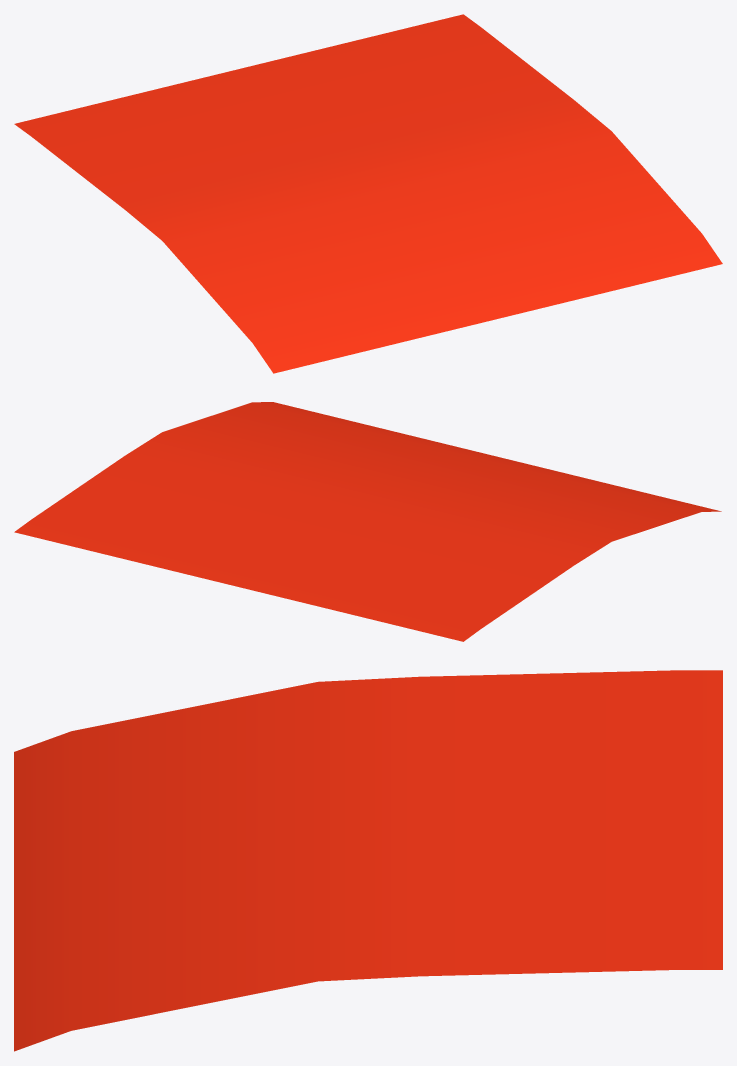
Rendered from postit.glb.
3 renders of one model, top to bottom at view 1: azimuth 30°, elevation 25°; view 2: azimuth 150°, elevation 25°; view 3: azimuth 270°, elevation 25°, orthographic. The views are drawn at different scales.
Visible parts, largest first — view 1: postit; view 2: postit; view 3: postit.
Part boxes in pixels (box(x1,y1,x2,y2)): postit: box(14, 14, 722, 373); postit: box(14, 402, 721, 641); postit: box(14, 670, 722, 1051).
Bounding box in the file's own units: 0.1871 × 0.0238 × 0.1871.
1 material, 1 textured.
